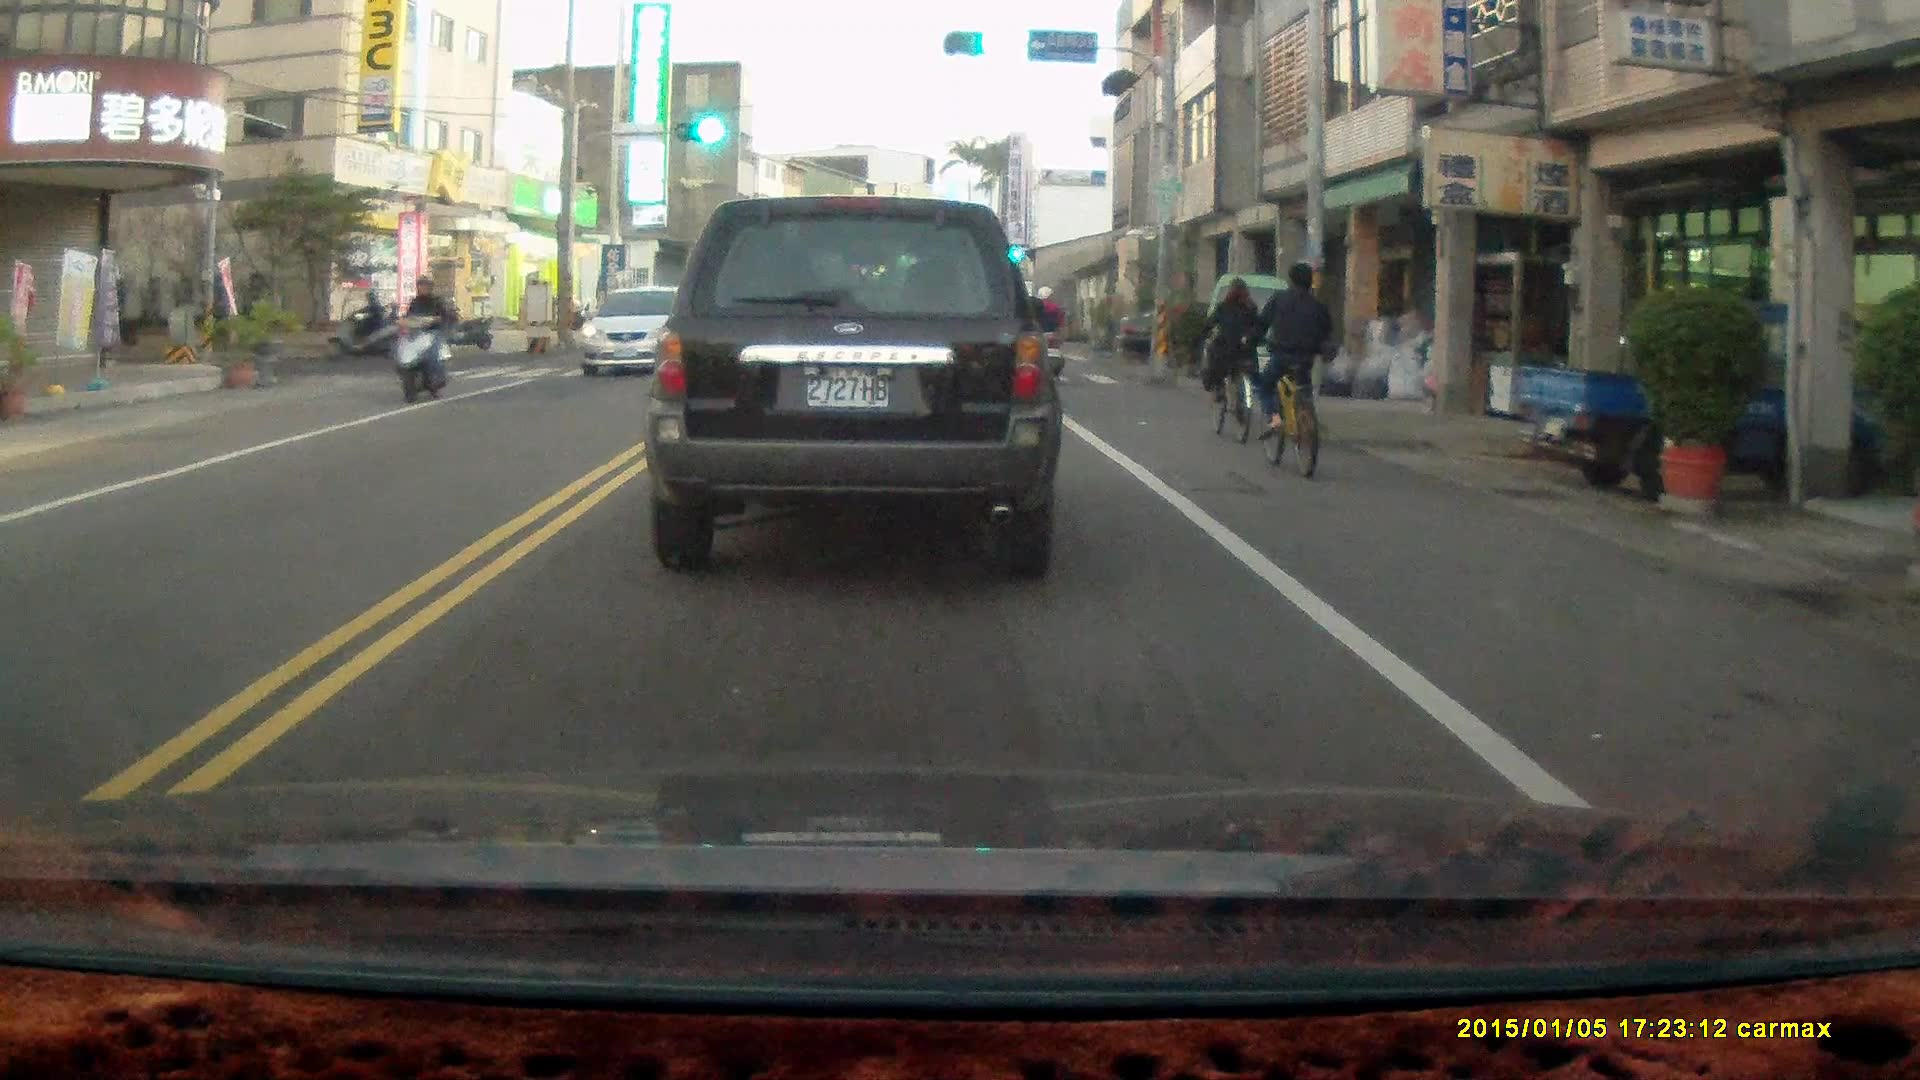rider: (1238, 259, 1334, 478), (1199, 277, 1261, 441), (390, 269, 453, 403), (324, 286, 401, 361), (1021, 284, 1065, 381)
vehicle: (643, 193, 1068, 579), (1200, 277, 1310, 390), (580, 284, 704, 377)
